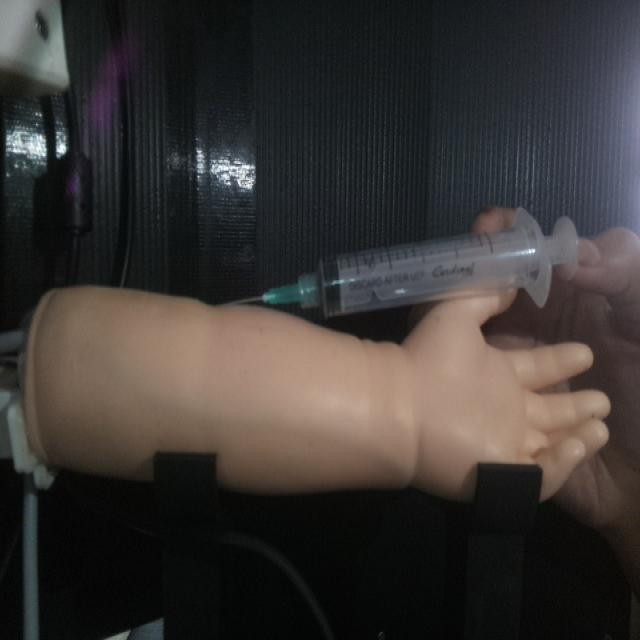Outside: (234, 203, 582, 320)
